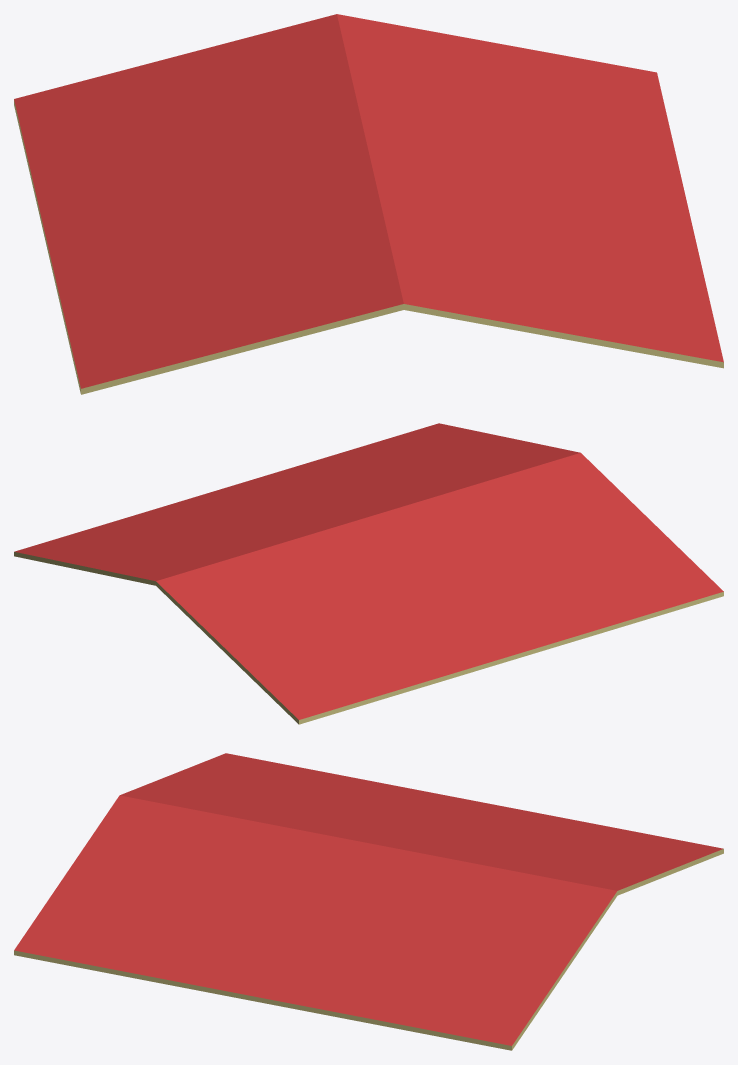
3 views of the same model, one above another, from view 1: azimuth 30°, elevation 25°; view 2: azimuth 150°, elevation 25°; view 3: azimuth 270°, elevation 25° (orthographic). The views are drawn at different scales.
Bounding box in the file's own units: 13.09 × 13.41 × 1.29.
